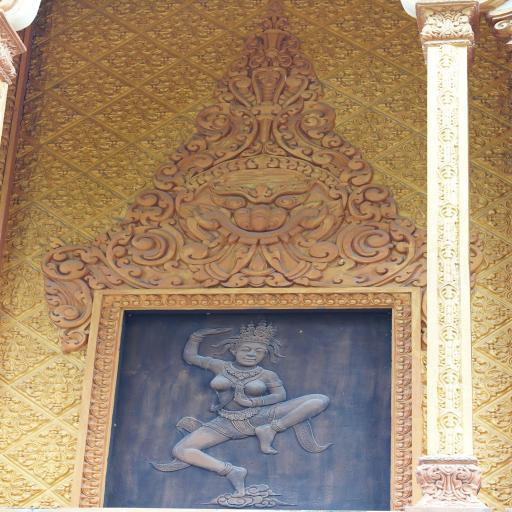la: (102, 223, 208, 289), (308, 227, 417, 287), (269, 102, 344, 160), (192, 104, 260, 156), (41, 277, 93, 328), (416, 464, 482, 504), (349, 182, 399, 223), (420, 5, 472, 42), (125, 188, 176, 222), (475, 292, 512, 330), (480, 329, 512, 371), (477, 230, 512, 267), (478, 265, 512, 303), (145, 160, 189, 189), (438, 410, 466, 454), (437, 366, 463, 410), (436, 282, 462, 324), (340, 156, 375, 187), (476, 204, 512, 233), (474, 55, 508, 84), (438, 324, 462, 365), (476, 143, 508, 172), (480, 402, 512, 430), (473, 88, 506, 115), (7, 442, 41, 468), (438, 202, 460, 242), (58, 327, 88, 356), (438, 242, 460, 281), (16, 374, 51, 398), (481, 173, 512, 200), (438, 163, 460, 201), (486, 364, 512, 396), (9, 476, 42, 501), (0, 296, 40, 316), (42, 356, 80, 377), (437, 126, 459, 162), (437, 90, 459, 126), (34, 462, 70, 484), (24, 340, 57, 364), (438, 50, 458, 89), (96, 130, 128, 154), (164, 90, 202, 110), (36, 424, 72, 445), (480, 114, 508, 141), (483, 475, 512, 501), (106, 22, 136, 47), (487, 436, 512, 466), (42, 392, 76, 414), (353, 138, 387, 160), (18, 407, 49, 431), (5, 262, 42, 282), (22, 309, 54, 332), (378, 150, 410, 173), (378, 12, 411, 34), (58, 49, 88, 73), (352, 29, 388, 49), (94, 104, 126, 126), (380, 122, 412, 144), (90, 160, 121, 182), (139, 131, 170, 153), (144, 102, 175, 124), (190, 46, 221, 68), (376, 94, 407, 116), (63, 206, 97, 226), (68, 148, 102, 168), (117, 119, 151, 139), (40, 190, 72, 211), (111, 177, 146, 196), (89, 188, 122, 208), (54, 105, 84, 127), (47, 134, 77, 156), (195, 19, 225, 41), (47, 161, 78, 182), (327, 69, 358, 90), (303, 30, 339, 48), (12, 237, 46, 256), (167, 36, 201, 55), (377, 38, 405, 61), (385, 177, 413, 200), (143, 76, 175, 96), (146, 49, 178, 69), (57, 26, 86, 48), (102, 76, 131, 98), (0, 326, 33, 345), (40, 219, 73, 238), (115, 145, 148, 164), (474, 32, 500, 56), (101, 51, 132, 71), (146, 23, 177, 43), (400, 54, 431, 74), (66, 174, 100, 192), (306, 6, 340, 24), (352, 84, 386, 102), (79, 39, 111, 58), (354, 108, 386, 127), (63, 0, 93, 20), (52, 80, 82, 100), (380, 66, 410, 86), (332, 96, 362, 116), (30, 69, 65, 86), (120, 90, 155, 107), (82, 218, 115, 236), (352, 54, 385, 72), (171, 7, 202, 26), (328, 16, 359, 35), (0, 360, 28, 381), (191, 74, 219, 95), (400, 166, 428, 187), (16, 204, 50, 221), (20, 179, 52, 197), (36, 16, 68, 34), (71, 119, 103, 137), (74, 94, 106, 112), (120, 66, 156, 82), (76, 64, 109, 81), (334, 42, 362, 62), (27, 123, 58, 141), (214, 33, 245, 51), (402, 108, 428, 129), (32, 41, 66, 57), (30, 94, 60, 112), (22, 148, 55, 164), (167, 62, 200, 78), (125, 36, 156, 53), (217, 9, 246, 27), (402, 194, 428, 214), (400, 79, 427, 98), (127, 12, 159, 28), (106, 202, 134, 220), (352, 1, 383, 17), (400, 26, 427, 44), (292, 54, 314, 76), (27, 495, 64, 508), (0, 392, 24, 412), (82, 12, 112, 28), (152, 0, 182, 16), (165, 117, 195, 133), (0, 429, 22, 450), (227, 56, 250, 76), (106, 0, 133, 17), (55, 478, 74, 502), (312, 58, 337, 76), (140, 158, 162, 178), (404, 135, 428, 153), (194, 0, 220, 16), (336, 124, 359, 142), (472, 388, 490, 411), (394, 319, 413, 340), (309, 76, 325, 100), (4, 218, 20, 242), (99, 307, 119, 326), (64, 410, 83, 430), (10, 191, 29, 211), (271, 50, 292, 68), (238, 0, 272, 11), (0, 459, 16, 482), (71, 373, 84, 401), (64, 232, 90, 246), (241, 34, 259, 54), (285, 34, 302, 55), (32, 278, 48, 300), (15, 162, 31, 184), (394, 339, 414, 356), (249, 51, 270, 67), (64, 441, 78, 465), (283, 0, 311, 12), (90, 400, 108, 418), (82, 479, 101, 496), (82, 464, 102, 480), (17, 136, 32, 157), (18, 106, 33, 127), (301, 293, 325, 306), (371, 293, 395, 306), (121, 294, 143, 308), (87, 431, 105, 448), (92, 385, 110, 402), (85, 448, 104, 464), (94, 355, 113, 371), (394, 403, 413, 419), (394, 468, 413, 484), (3, 248, 19, 267), (209, 294, 234, 306), (278, 294, 303, 306), (210, 83, 230, 98), (89, 416, 106, 433), (94, 370, 112, 386), (30, 53, 42, 77), (393, 304, 412, 319), (234, 294, 257, 306), (326, 293, 347, 306), (395, 356, 412, 372), (396, 451, 412, 468), (96, 341, 114, 356), (395, 484, 413, 499), (102, 295, 122, 308), (395, 418, 411, 434), (395, 372, 412, 387), (395, 387, 412, 402), (395, 435, 412, 450), (256, 294, 279, 305), (348, 294, 371, 305), (394, 293, 412, 307), (332, 0, 360, 9), (143, 294, 162, 307), (392, 499, 412, 511), (1, 276, 11, 300), (30, 251, 45, 267), (189, 295, 210, 306), (166, 295, 189, 305), (81, 496, 99, 508), (99, 327, 115, 340), (86, 0, 112, 6), (220, 73, 231, 84)
lua: (220, 253, 296, 288), (257, 2, 294, 31), (250, 99, 283, 115)
than: (43, 2, 426, 288), (133, 318, 359, 501), (40, 440, 65, 462), (47, 372, 71, 393), (357, 66, 380, 86), (2, 340, 24, 360), (11, 276, 31, 298), (70, 188, 92, 208), (124, 103, 146, 123), (32, 106, 55, 125), (120, 159, 141, 179), (20, 218, 40, 238), (28, 160, 48, 180), (358, 13, 379, 32), (175, 20, 195, 39), (312, 42, 332, 61), (408, 209, 427, 229), (220, 46, 238, 67), (407, 39, 425, 60), (360, 122, 381, 140), (173, 74, 192, 93), (76, 132, 96, 150), (407, 93, 427, 111), (408, 150, 428, 168), (44, 2, 63, 20), (82, 78, 101, 96), (171, 130, 188, 150), (0, 408, 16, 429), (472, 368, 486, 392), (130, 50, 148, 68), (40, 53, 59, 70), (86, 25, 106, 41), (468, 178, 481, 202), (132, 0, 152, 15), (470, 306, 481, 327), (473, 440, 484, 461), (221, 0, 240, 10), (468, 121, 478, 139), (312, 0, 332, 8)
